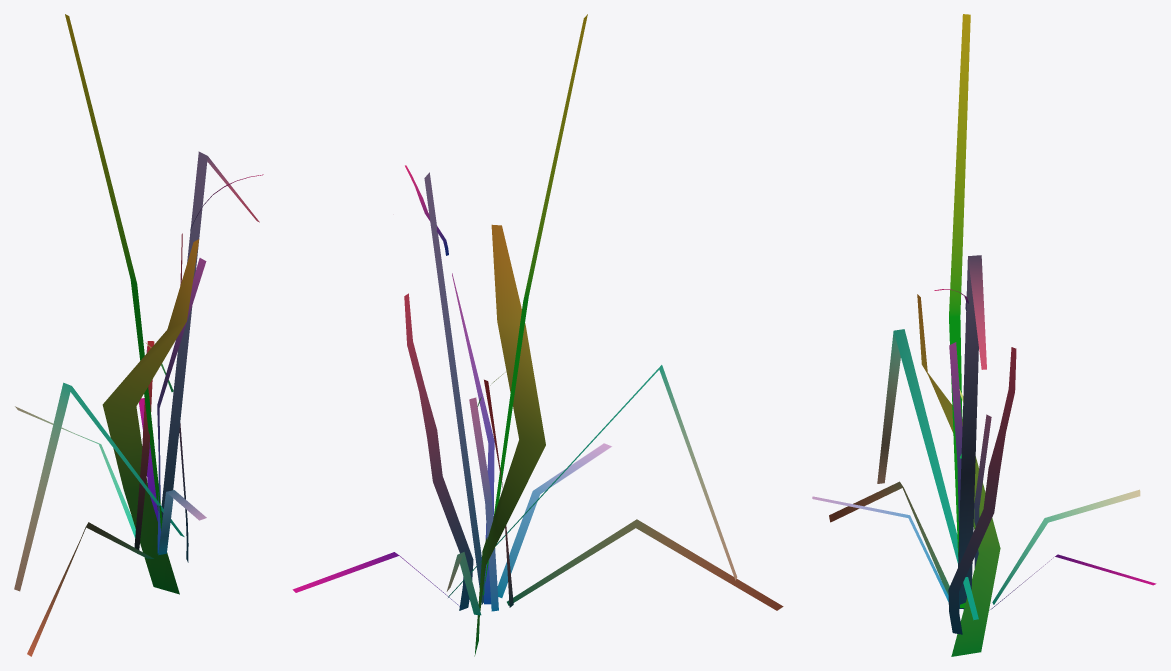
The model's file is Wheat_Grass_tdcrdbur_Low_tdcrdbur_VarE_LOD1.fbx.
3 views of the same model, side by side, from view 1: azimuth 30°, elevation 25°; view 2: azimuth 150°, elevation 25°; view 3: azimuth 270°, elevation 25° (orthographic). The views are drawn at different scales.
Parts seen in each view (by area): view 1: _850e_VarE_LOD2; view 2: _850e_VarE_LOD2; view 3: _850e_VarE_LOD2.
Part boxes in pixels (x1,y1,x2,y2): _850e_VarE_LOD2: (14,14,263,656); _850e_VarE_LOD2: (292,14,783,656); _850e_VarE_LOD2: (812,14,1156,656).
Bounding box in the file's own units: 36.06 × 66.62 × 35.08.
